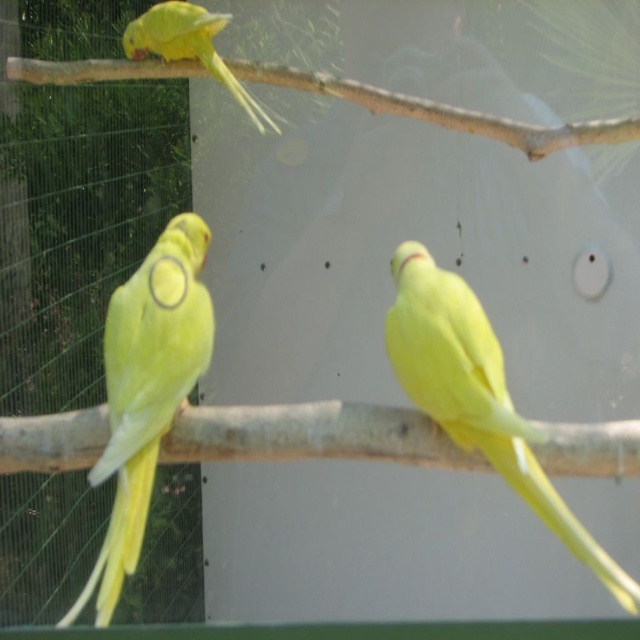Parrot: (383, 240, 640, 617), (55, 212, 216, 627), (122, 0, 300, 137)
